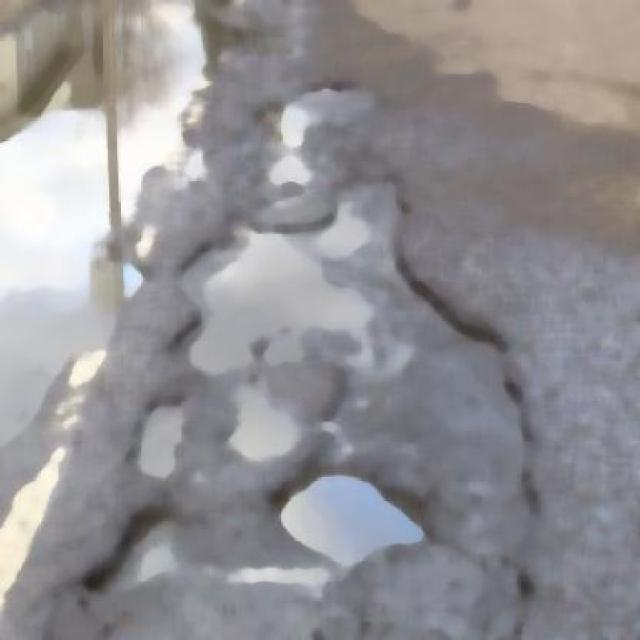Pothole: (190, 193, 376, 376), (268, 462, 434, 560), (94, 512, 186, 602), (268, 76, 344, 166), (220, 375, 300, 460), (138, 385, 184, 483)
